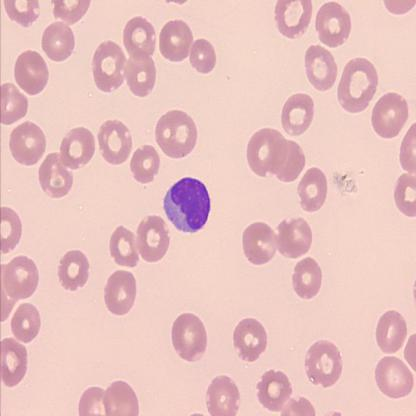Lymphocyte: (162, 176, 211, 234)
